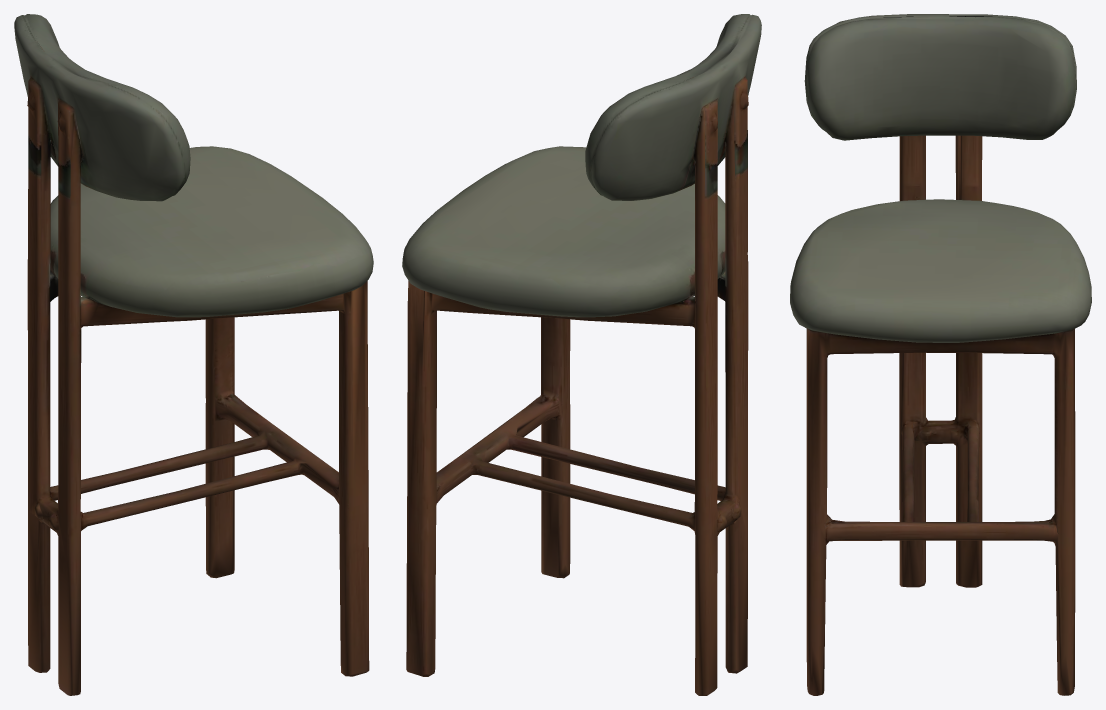
The model's file is cb_semistool_pasadena.glb.
3 views of the same model, side by side, from view 1: azimuth 30°, elevation 25°; view 2: azimuth 150°, elevation 25°; view 3: azimuth 270°, elevation 25° (orthographic). The views are drawn at different scales.
Parts seen in each view (by area): view 1: cb_semistool_pasadena_t1; view 2: cb_semistool_pasadena_t1; view 3: cb_semistool_pasadena_t1.
Boxes of the visible parts, x1,y1,x2,y2 form: cb_semistool_pasadena_t1: [14, 14, 373, 695]; cb_semistool_pasadena_t1: [402, 14, 761, 695]; cb_semistool_pasadena_t1: [790, 14, 1091, 695].
Bounding box in the file's own units: 0.453 × 0.9498 × 0.4527.
Materials: 1 (1 with a texture image).
